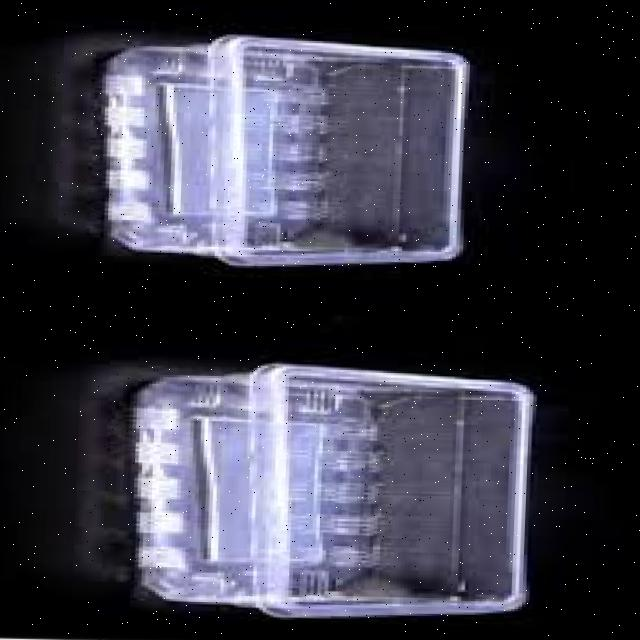disposable: (114, 354, 553, 623), (89, 32, 484, 281)
